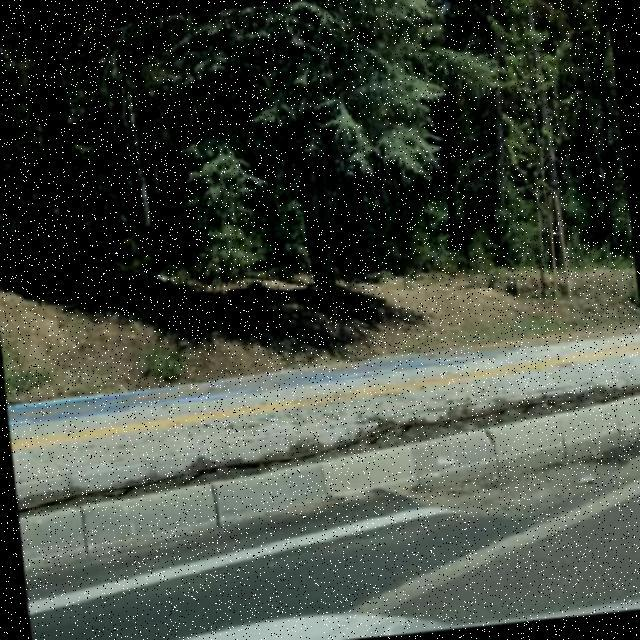Pothole: (396, 461, 623, 517)
